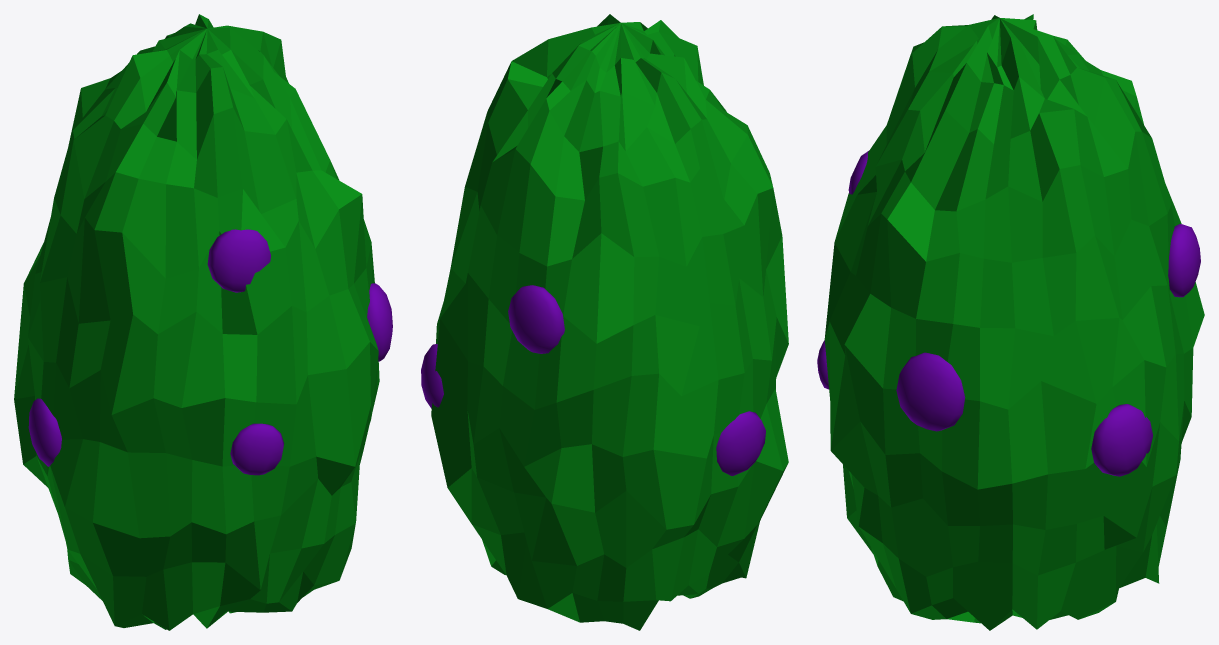
The model's file is buisson montagne.fbx.
3 views of the same model, side by side, from view 1: azimuth 30°, elevation 25°; view 2: azimuth 150°, elevation 25°; view 3: azimuth 270°, elevation 25° (orthographic). The views are drawn at different scales.
Parts seen in each view (by area): view 1: Sphere; view 2: Sphere; view 3: Sphere.
Part boxes in pixels (x1,y1,x2,y2): Sphere: (14,14,392,630); Sphere: (421,14,788,630); Sphere: (817,14,1204,630).
Bounding box in the file's own units: 180 × 310 × 186.
